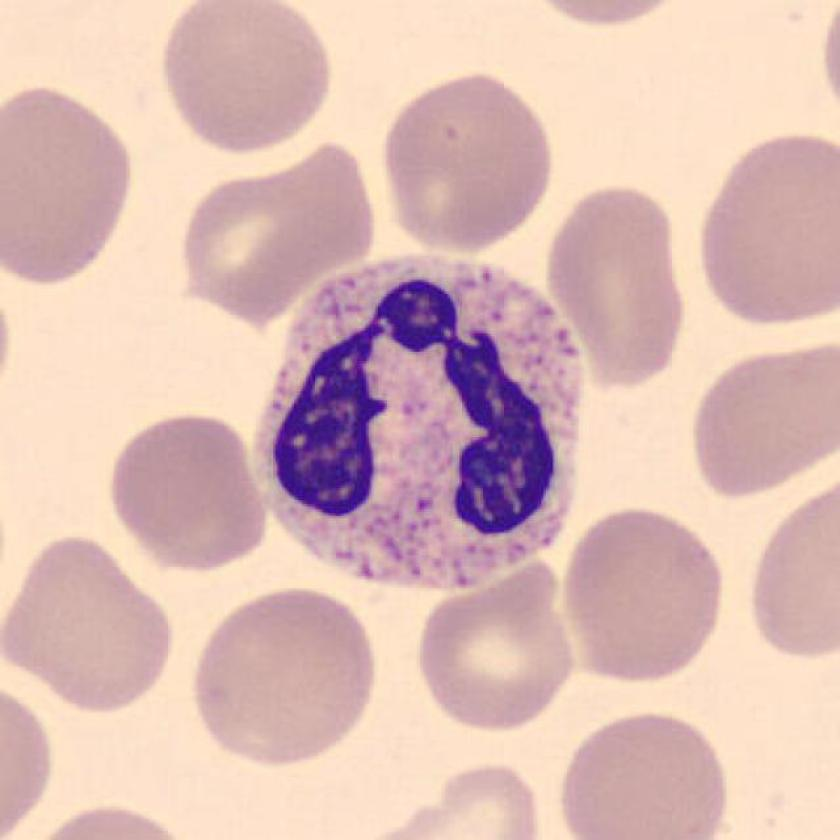neutrophil: (253, 254, 585, 592)
